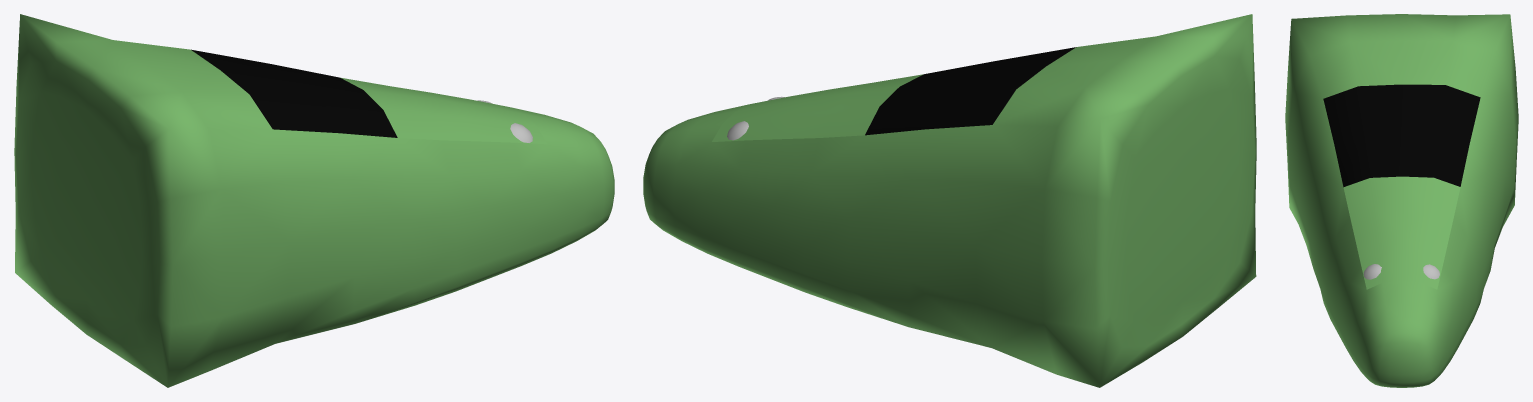
File: cr头12.glb
The picture shows the model from 3 angles, left to right: view 1: azimuth 30°, elevation 25°; view 2: azimuth 150°, elevation 25°; view 3: azimuth 270°, elevation 25°; orthographic projection. The views are drawn at different scales.
Parts seen in each view (by area): view 1: Box001; view 2: Box001; view 3: Box001, Sphere001.
Part boxes in pixels (x1,y1,x2,y2): Box001: [14, 14, 614, 387]; Box001: [643, 14, 1256, 387]; Box001: [1285, 14, 1518, 387]; Sphere001: [1363, 264, 1381, 279].
Bounding box in the file's own units: 5.25 × 2.63 × 2.77.
